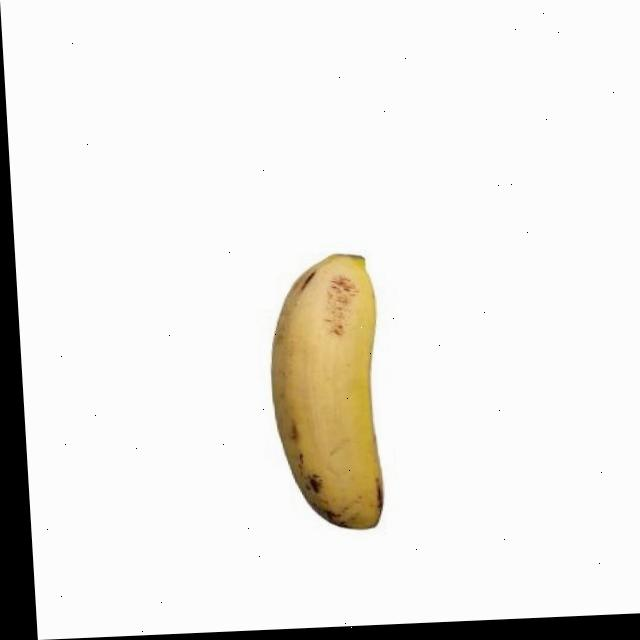banana: (258, 250, 393, 537)
